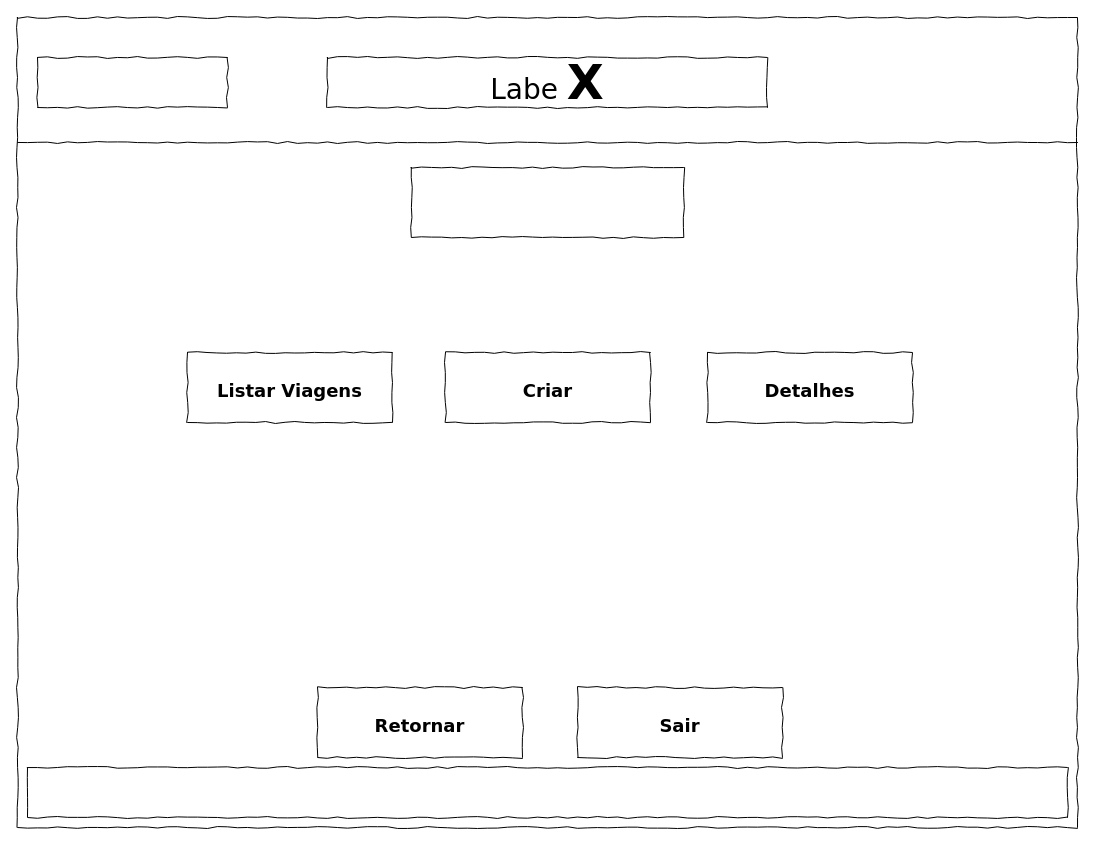
This 1095x845 diagram has some shape labels left out. Here are the shapes that lost their labels. From the top down, the centre of each, then its label:
(132,82): LOGO
(547,202): Login
(547,792): Rodapé
